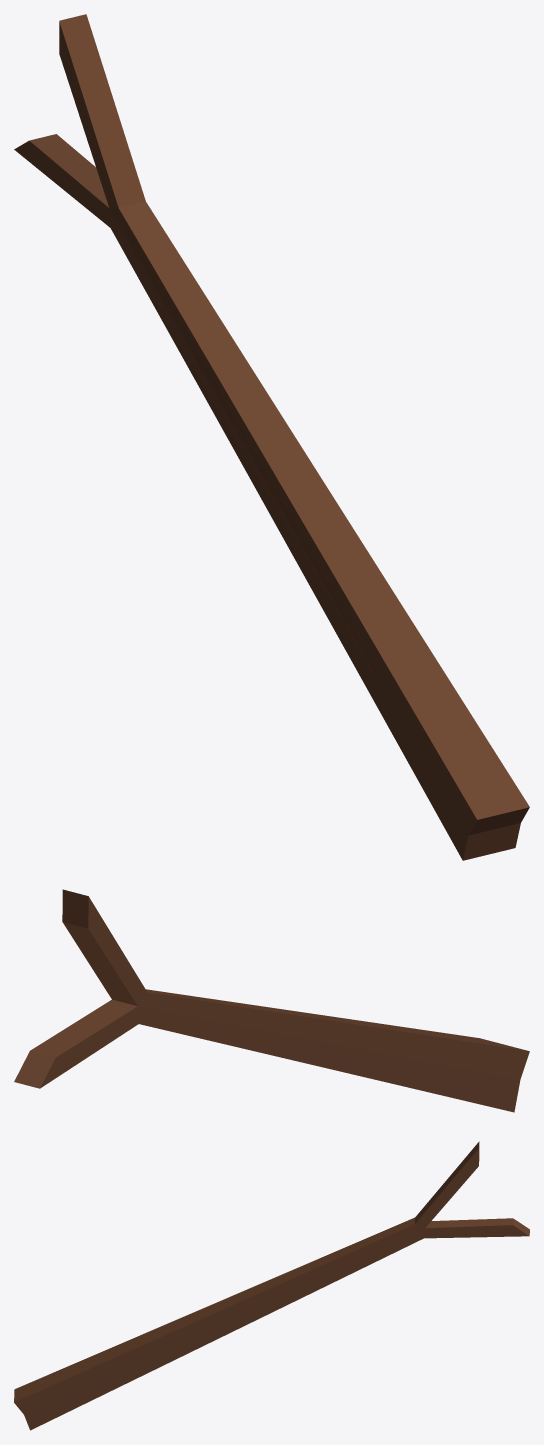
File: Racket_Handle.fbx
3 views of the same model, one above another, from view 1: azimuth 30°, elevation 25°; view 2: azimuth 150°, elevation 25°; view 3: azimuth 270°, elevation 25° (orthographic). The views are drawn at different scales.
Visible parts, largest first — view 1: Racket._Handle; view 2: Racket._Handle; view 3: Racket._Handle.
Boxes of the visible parts, bbox=[...] form: Racket._Handle: bbox=[14, 14, 529, 860]; Racket._Handle: bbox=[14, 889, 529, 1112]; Racket._Handle: bbox=[14, 1141, 529, 1430].
Bounding box in the file's own units: 12.85 × 122 × 204.
